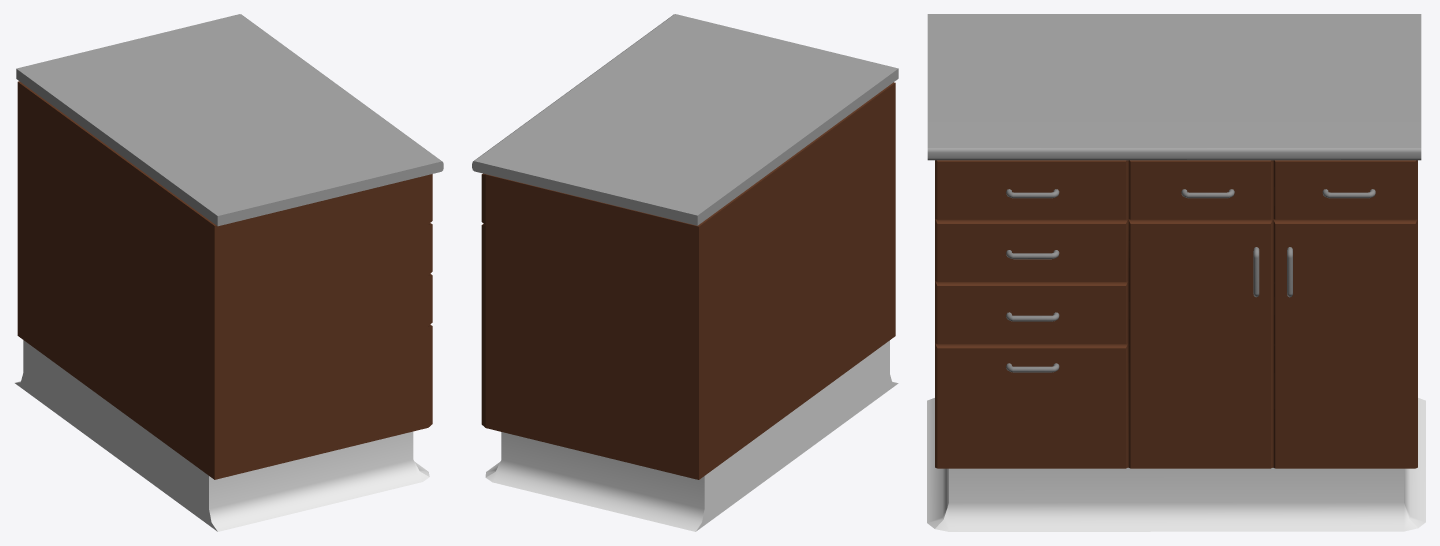
The model's file is Drawer_002.fbx.
3 views of the same model, side by side, from view 1: azimuth 30°, elevation 25°; view 2: azimuth 150°, elevation 25°; view 3: azimuth 270°, elevation 25° (orthographic). The views are drawn at different scales.
Visible parts, largest first — view 1: SmartCombine_27; view 2: SmartCombine_27; view 3: SmartCombine_27.
Part boxes in pixels (x1=…): SmartCombine_27: x1=15, y1=14, x2=443, y2=531; SmartCombine_27: x1=472, y1=14, x2=898, y2=531; SmartCombine_27: x1=927, y1=14, x2=1425, y2=531.
Size of the model in its own units: 69.63 by 92.44 by 108.
